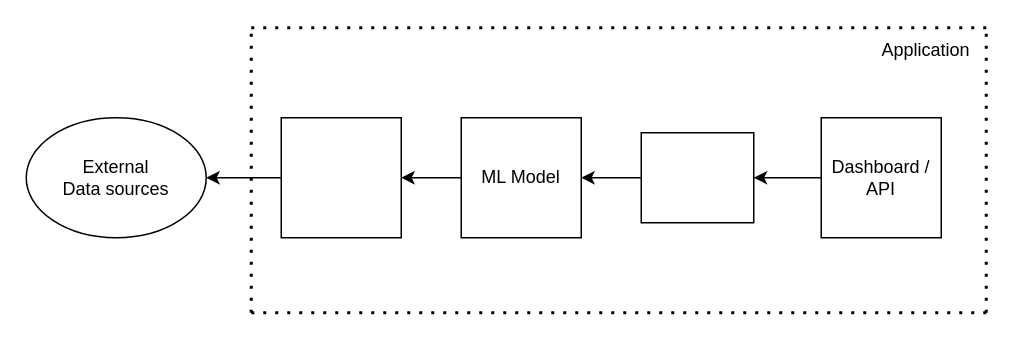
Image size: 1016x341. Some labels were removed from this diagram. The box of each missing label's shape, as (x1, y1, x2, y2) in pixels:
Data Mining: (280, 116, 401, 238)
workflow.py: (640, 131, 754, 223)
